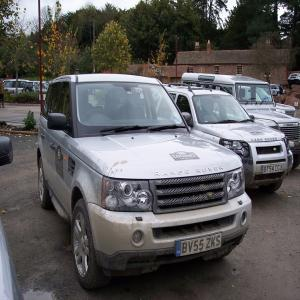Vehicle-registration-plate: (176, 233, 222, 257), (265, 164, 284, 176)
